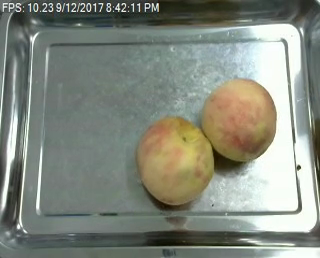Peach: (135, 114, 215, 206), (201, 78, 277, 162)
